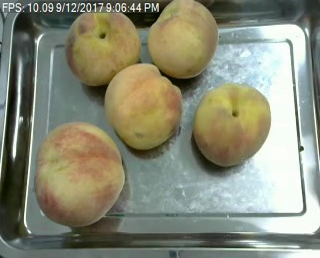Peach: (33, 121, 124, 228), (104, 63, 181, 149), (193, 84, 271, 168), (64, 4, 142, 87), (147, 0, 219, 78)
